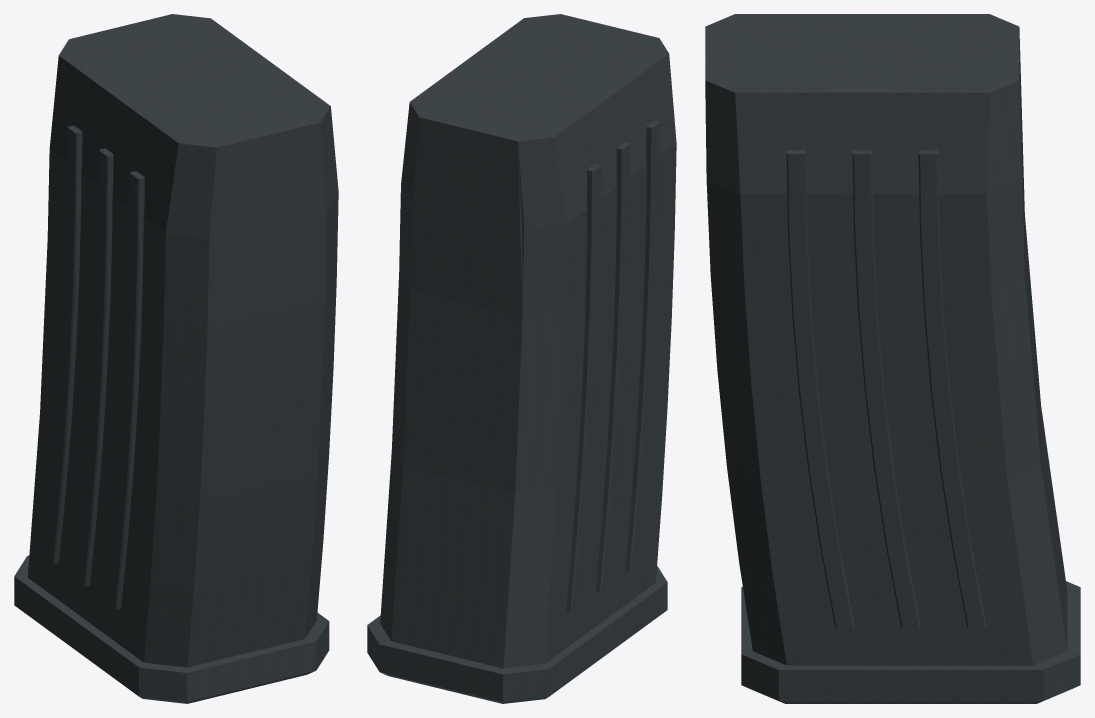
File: saiga_5.glb
The picture shows the model from 3 angles, left to right: view 1: azimuth 30°, elevation 25°; view 2: azimuth 150°, elevation 25°; view 3: azimuth 270°, elevation 25°; orthographic projection. The views are drawn at different scales.
Visible parts, largest first — view 1: saiga_5_individual_shell, saiga_5_individual_shell.001; view 2: saiga_5_individual_shell, saiga_5_individual_shell.001; view 3: saiga_5_individual_shell, saiga_5_individual_shell.001.
Boxes of the visible parts, box(x1,y1,x2,y2) form: saiga_5_individual_shell: box(14, 14, 338, 703); saiga_5_individual_shell.001: box(27, 239, 163, 662); saiga_5_individual_shell: box(367, 14, 676, 703); saiga_5_individual_shell.001: box(380, 117, 674, 668); saiga_5_individual_shell: box(705, 14, 1080, 703); saiga_5_individual_shell.001: box(744, 28, 1067, 665).
Size of the model in its own units: 0.0957 by 0.274 by 0.1542.
Materials: 1 (1 with a texture image).
